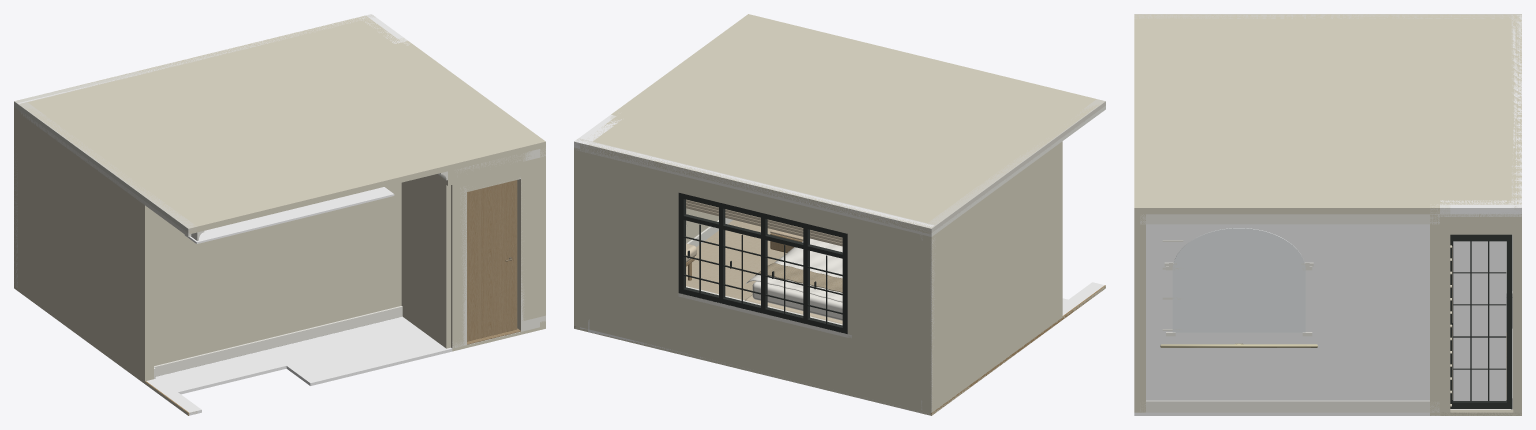
3 renders of one model, left to right at view 1: azimuth 30°, elevation 25°; view 2: azimuth 150°, elevation 25°; view 3: azimuth 270°, elevation 25°, orthographic. The views are drawn at different scales.
Visible parts, largest first — view 1: Bedroom 3 | ceiling.001, Bedroom 3 to 5 | end.001, Proposal revision | First west | end.001, Bedroom 5 | ceiling.001, Bedroom 5 | floor.001, Proposal revision | Bedroom 5 hall | pier 0.001, Bedroom3 01 | entrance door leaf.001, Bedroom 3 hall door | end.001, Bedroom 3 to 5 | skirting end-1.001, Bedroom 3 hall door | pier 0.001, Proposal revision | Upstairs photo detail | Bedroom 2 north. (×4), Proposal revision | Roof join | First west masonry head.001 (+8 smaller); view 2: Bedroom 3 | ceiling.001, Proposal revision | First west | end.001, Bedroom 3 rear | end.001, Bedroom 3 rear | pier 0.001, Bedroom 5 | ceiling.001, Proposal revision | Bedroom 3 rear | below 0.001, Bedroom3 01 | warm wool carpet.001, Proposal revision | Bedroom 3 rear | lintel 0.001, Roof join | Bedroom 3 rear masonry head.001, Proposal revision | Roof join | First west masonry head.001, Bedroom 3 balcony door | pier 0.001, Bedroom3 01 | draped cotton duvet.001 (+23 smaller); view 3: Bedroom 3 | ceiling.001, Bathroom bedroom 3 | end.001, Bedroom 5 | ceiling.001, Photo detail | Family arched mirror.001, Rear bay detail | Bedroom 3 clear glass.001, Bathroom balcony | pier 0.001, Bathroom bedroom 3 | skirting end1.001, Bathroom | ceiling.001, Circulation detail | Cove Bathroom bedroom 3 1.001, Bathroom hall | pier 0.001, Bedroom 3 balcony door | pier 0.001, Proposal revision | Rear bay detail | Bedroom 3 leaf stile.0 (×2) (+9 smaller).
Boxes of the visible parts, <box> form: Bedroom 3 | ceiling.001: <box>23,15,536,192</box>; Bedroom 3 to 5 | end.001: <box>154,182,401,365</box>; Proposal revision | First west | end.001: <box>14,107,153,381</box>; Bedroom 5 | ceiling.001: <box>142,128,452,234</box>; Bedroom 5 | floor.001: <box>146,316,452,415</box>; Proposal revision | Bedroom 5 hall | pier 0.001: <box>401,170,456,348</box>; Bedroom3 01 | entrance door leaf.001: <box>467,180,517,341</box>; Bedroom 3 hall door | end.001: <box>517,151,539,330</box>; Bedroom 3 to 5 | skirting end-1.001: <box>154,306,402,376</box>; Bedroom 3 hall door | pier 0.001: <box>451,167,466,348</box>; Proposal revision | Upstairs photo detail | Bedroom 2 north. (×4): <box>184,187,394,243</box>; Proposal revision | Roof join | First west masonry head.001: <box>14,99,196,234</box>; Bedroom 3 | ceiling.001: <box>580,17,1055,234</box>; Proposal revision | First west | end.001: <box>922,141,1062,412</box>; Bedroom 3 rear | end.001: <box>580,149,678,351</box>; Bedroom 3 rear | pier 0.001: <box>847,216,930,412</box>; Bedroom 5 | ceiling.001: <box>793,37,1099,136</box>; Proposal revision | Bedroom 3 rear | below 0.001: <box>678,293,847,392</box>; Bedroom3 01 | warm wool carpet.001: <box>686,220,786,300</box>; Proposal revision | Bedroom 3 rear | lintel 0.001: <box>678,175,847,233</box>; Roof join | Bedroom 3 rear masonry head.001: <box>580,140,933,231</box>; Proposal revision | Roof join | First west masonry head.001: <box>923,99,1105,232</box>; Bedroom 3 balcony door | pier 0.001: <box>574,147,587,328</box>; Bedroom3 01 | draped cotton duvet.001: <box>746,238,842,302</box>; Bedroom 3 | ceiling.001: <box>1140,14,1521,204</box>; Bathroom bedroom 3 | end.001: <box>1146,224,1429,400</box>; Bedroom 5 | ceiling.001: <box>1134,14,1242,157</box>; Photo detail | Family arched mirror.001: <box>1172,228,1305,332</box>; Rear bay detail | Bedroom 3 clear glass.001: <box>1453,241,1506,400</box>; Bathroom balcony | pier 0.001: <box>1430,214,1450,412</box>; Bathroom bedroom 3 | skirting end1.001: <box>1140,400,1439,412</box>; Bathroom | ceiling.001: <box>1140,204,1439,214</box>; Circulation detail | Cove Bathroom bedroom 3 1.001: <box>1140,214,1439,224</box>; Bathroom hall | pier 0.001: <box>1134,214,1145,412</box>; Bedroom 3 balcony door | pier 0.001: <box>1513,214,1521,412</box>; Proposal revision | Rear bay detail | Bedroom 3 leaf stile.0 (×2): <box>1450,234,1512,408</box>.
Bounding box in the file's own units: 5.14 × 2.57 × 4.34.
Materials: 27 (5 with a texture image).
